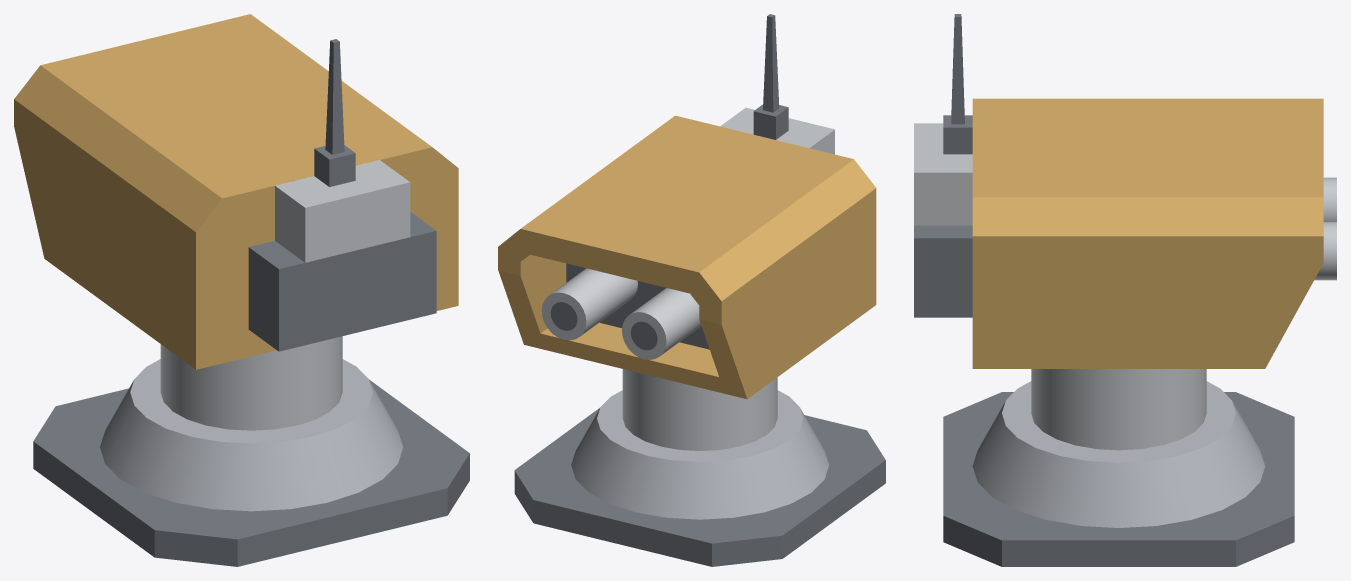
File: turret_single.glb
3 renders of one model, left to right at view 1: azimuth 30°, elevation 25°; view 2: azimuth 150°, elevation 25°; view 3: azimuth 270°, elevation 25°, orthographic. The views are drawn at different scales.
Parts seen in each view (by area): view 1: turret_single, turret; view 2: turret, turret_single; view 3: turret, turret_single.
Part boxes in pixels (x1,y1,x2,y2): turret_single: (33,39,469,566); turret: (14,14,458,369); turret: (498,115,876,399); turret_single: (514,14,885,566); turret: (972,98,1323,368); turret_single: (914,14,1336,566).
Bounding box in the file's own units: 0.6 × 0.9 × 0.7223.
